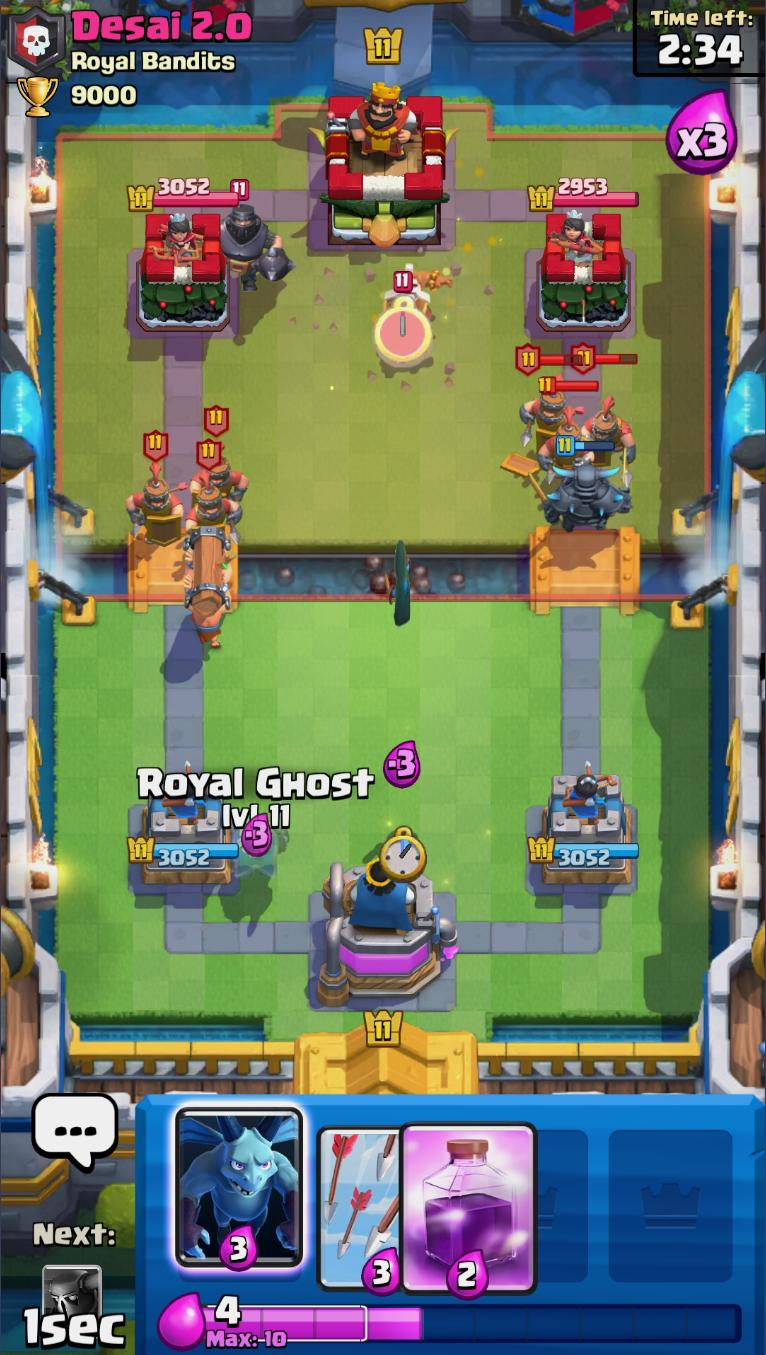ArrowDeck: (311, 1099, 454, 1296)
Elixir: (201, 1296, 741, 1351)
Empty: (599, 1094, 741, 1296)
EnemyTower: (136, 211, 234, 331), (538, 209, 632, 333), (129, 178, 239, 212), (529, 178, 640, 211)
KingTower: (311, 79, 459, 246)
MegaKnight: (214, 178, 297, 294)
MinionsDeck: (164, 1096, 313, 1294)
Monk: (374, 266, 453, 324)
MyBandit: (384, 540, 411, 627)
MyBattleRam: (180, 522, 234, 647)
MyKingTower: (317, 860, 460, 1007)
MyPekka: (525, 435, 634, 532)
MyPrincessTower: (129, 771, 240, 889), (531, 773, 639, 889)
MyPrincessTowerHP: (126, 836, 241, 867), (531, 835, 640, 866)
PekkaNext: (41, 1263, 103, 1343)
PrincessTower: (550, 211, 605, 264), (149, 213, 204, 264)
RageDeck: (456, 1096, 597, 1294)
RoyalRecruit: (572, 345, 640, 456), (125, 429, 182, 545), (513, 345, 578, 446), (538, 374, 600, 476), (188, 404, 246, 511), (183, 438, 240, 536)
